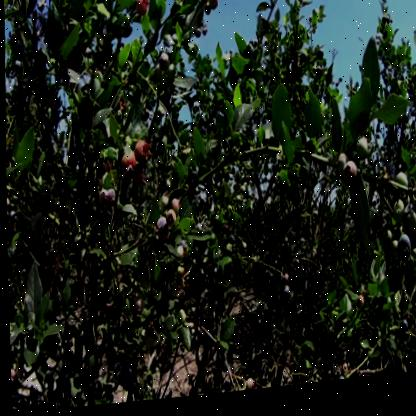intermediate: (121, 147, 148, 186), (138, 1, 147, 19)
mature: (113, 365, 132, 394), (14, 41, 26, 76), (396, 242, 410, 271), (165, 203, 179, 231), (98, 193, 116, 210), (279, 291, 290, 309), (397, 326, 405, 345), (199, 1, 210, 8), (415, 348, 416, 381)
young: (331, 162, 355, 194), (154, 60, 175, 96), (161, 315, 183, 336), (356, 146, 370, 171), (402, 219, 416, 243), (174, 252, 185, 281), (130, 298, 143, 320), (390, 210, 405, 229), (396, 181, 407, 200), (209, 1, 219, 15), (415, 167, 416, 214)
